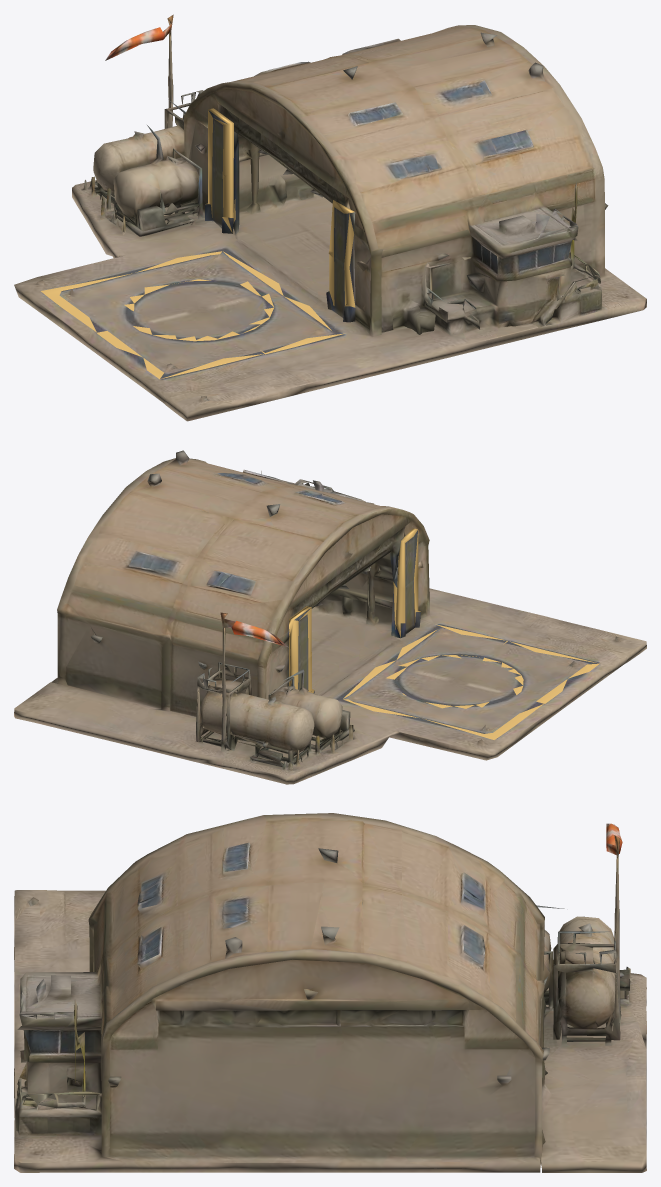
File: aircraft_factory.glb
The picture shows the model from 3 angles, top to bottom: view 1: azimuth 30°, elevation 25°; view 2: azimuth 150°, elevation 25°; view 3: azimuth 270°, elevation 25°; orthographic projection. The views are drawn at different scales.
Parts seen in each view (by area): view 1: Model; view 2: Model; view 3: Model.
Boxes of the visible parts, x1,y1,x2,y2 form: Model: [14, 14, 646, 421]; Model: [14, 450, 646, 784]; Model: [14, 813, 646, 1172].
Bounding box in the file's own units: 2 × 0.7773 × 1.96.
2 materials, 1 textured.
